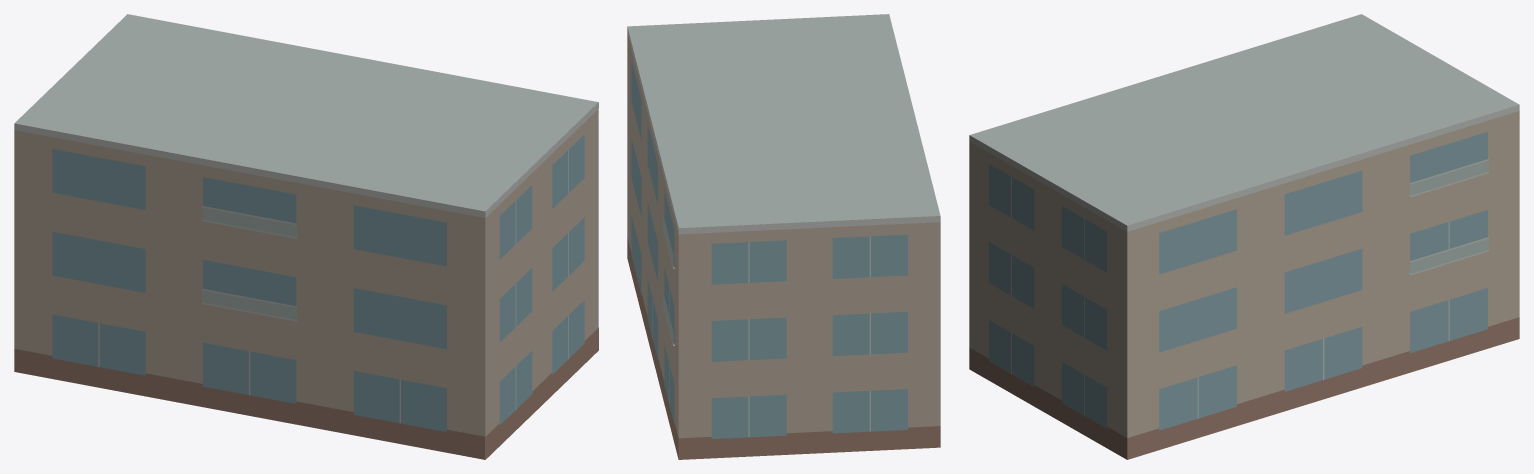
File: survey-upis-32689347.glb
3 renders of one model, left to right at view 1: azimuth 30°, elevation 25°; view 2: azimuth 150°, elevation 25°; view 3: azimuth 270°, elevation 25°, orthographic. The views are drawn at different scales.
Parts seen in each view (by area): view 1: survey-upis-32689347.tmp; view 2: survey-upis-32689347.tmp; view 3: survey-upis-32689347.tmp.
Boxes of the visible parts, bbox=[...] form: survey-upis-32689347.tmp: bbox=[14, 14, 598, 459]; survey-upis-32689347.tmp: bbox=[627, 14, 940, 459]; survey-upis-32689347.tmp: bbox=[969, 14, 1519, 459].
Size of the model in its own units: 17.75 by 9.15 by 19.49.
